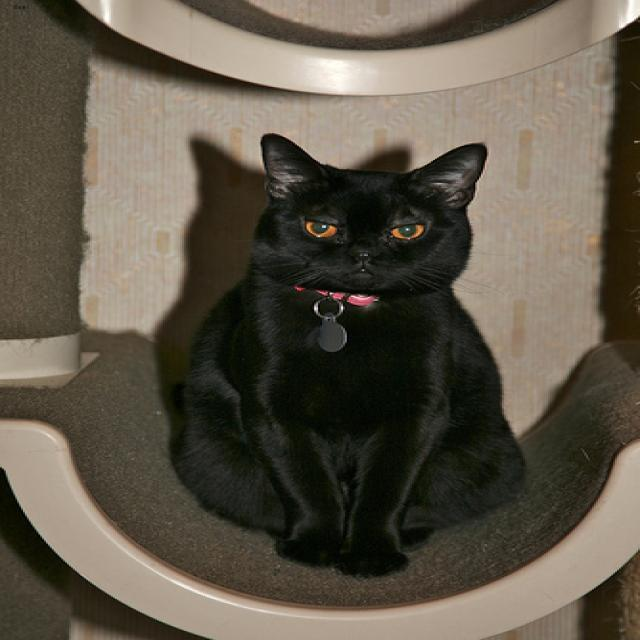Bombay: (257, 132, 483, 287)
